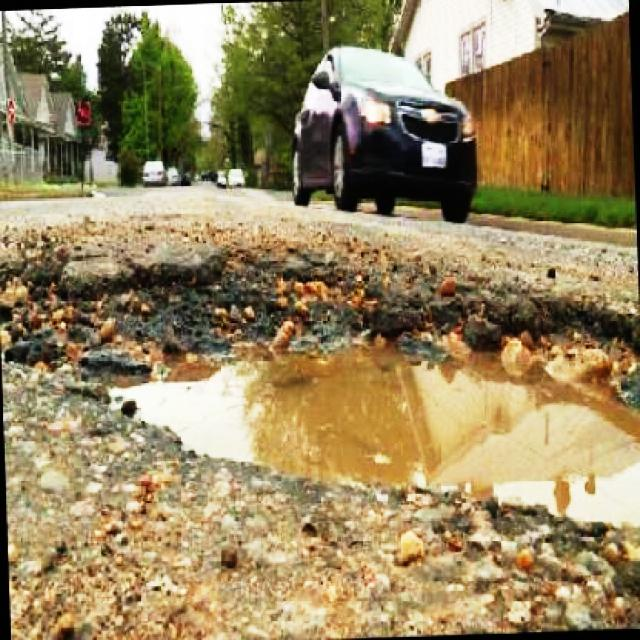pothole: (7, 241, 640, 552)
